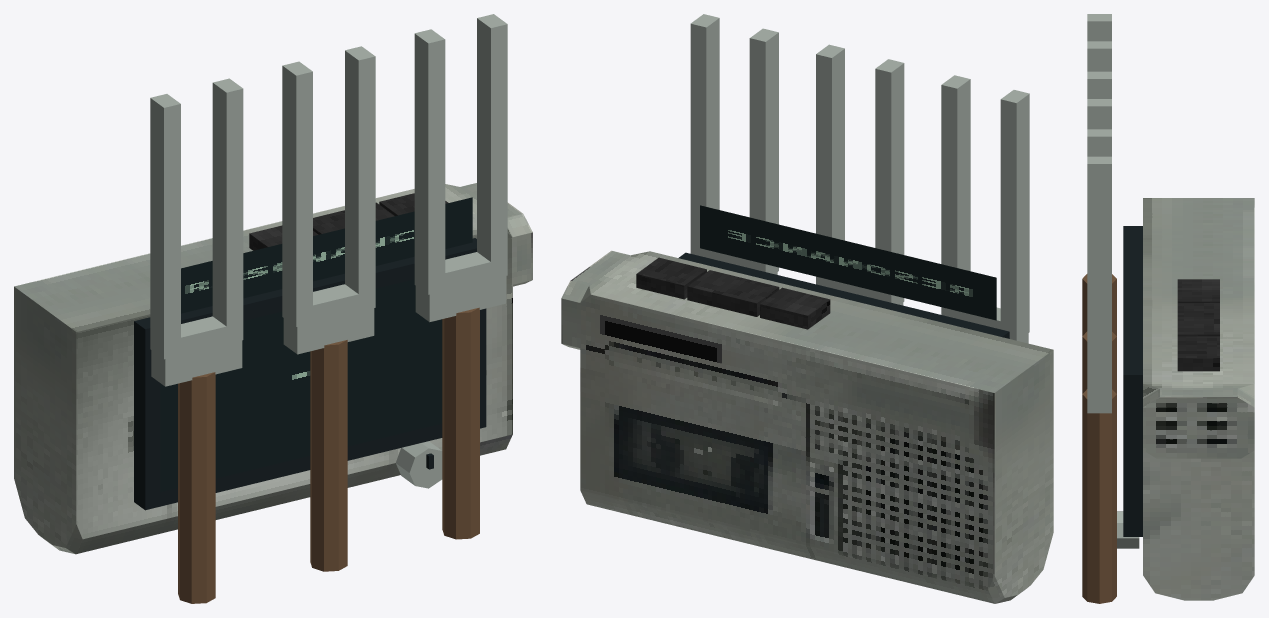
File: blender_resonance_tuner_3.glb
3 renders of one model, left to right at view 1: azimuth 30°, elevation 25°; view 2: azimuth 150°, elevation 25°; view 3: azimuth 270°, elevation 25°, orthographic. The views are drawn at different scales.
Parts seen in each view (by area): view 1: blender_resonance_tuner_3; view 2: blender_resonance_tuner_3; view 3: blender_resonance_tuner_3.
Part boxes in pixels (x1=…): blender_resonance_tuner_3: x1=14, y1=14, x2=532, y2=603; blender_resonance_tuner_3: x1=561, y1=14, x2=1053, y2=603; blender_resonance_tuner_3: x1=1082, y1=14, x2=1254, y2=603.
Size of the model in its own units: 0.19 by 0.2 by 0.0695.
Materials: 1 (1 with a texture image).
